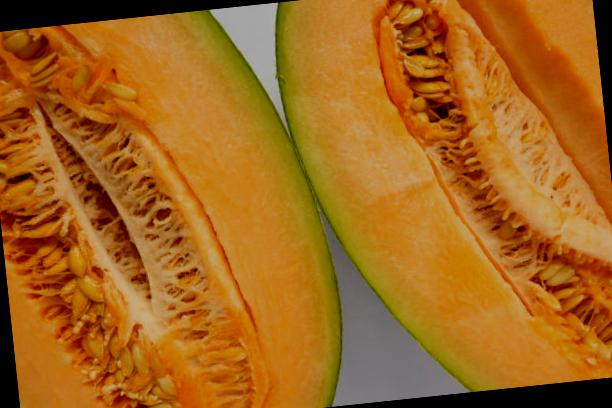Melon Ripe: (0, 0, 352, 408), (268, 0, 612, 408)
